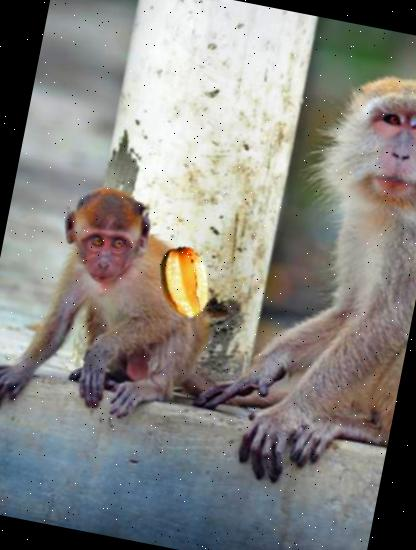Carambula: (140, 239, 226, 325)
